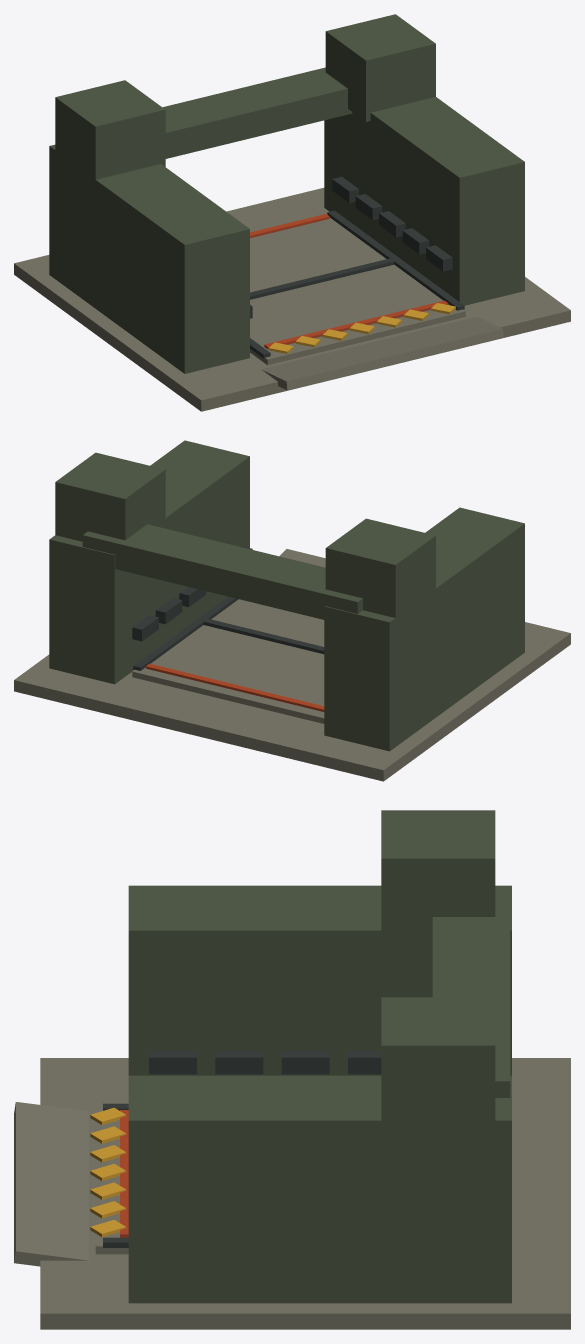
The model's file is Bastion_RepairBay_Base.obj.
3 renders of one model, top to bottom at view 1: azimuth 30°, elevation 25°; view 2: azimuth 150°, elevation 25°; view 3: azimuth 270°, elevation 25°, orthographic. The views are drawn at different scales.
Parts seen in each view (by area): view 1: Bastion_RepairBay_Base; view 2: Bastion_RepairBay_Base; view 3: Bastion_RepairBay_Base.
Boxes of the visible parts, x1,y1,x2,y2 form: Bastion_RepairBay_Base: (14,14,570,411); Bastion_RepairBay_Base: (14,440,570,781); Bastion_RepairBay_Base: (14,810,570,1329).
Size of the model in its own units: 8.2 by 4.1 by 7.56.
1 material, 1 textured.
